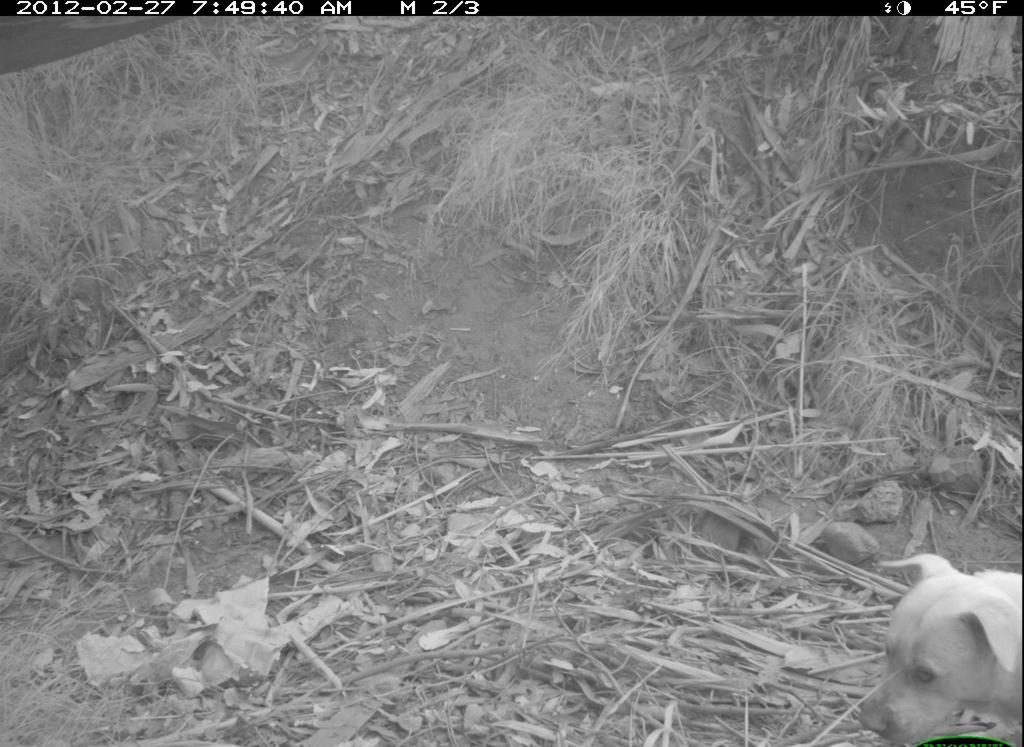dog: (847, 538, 1021, 743)
